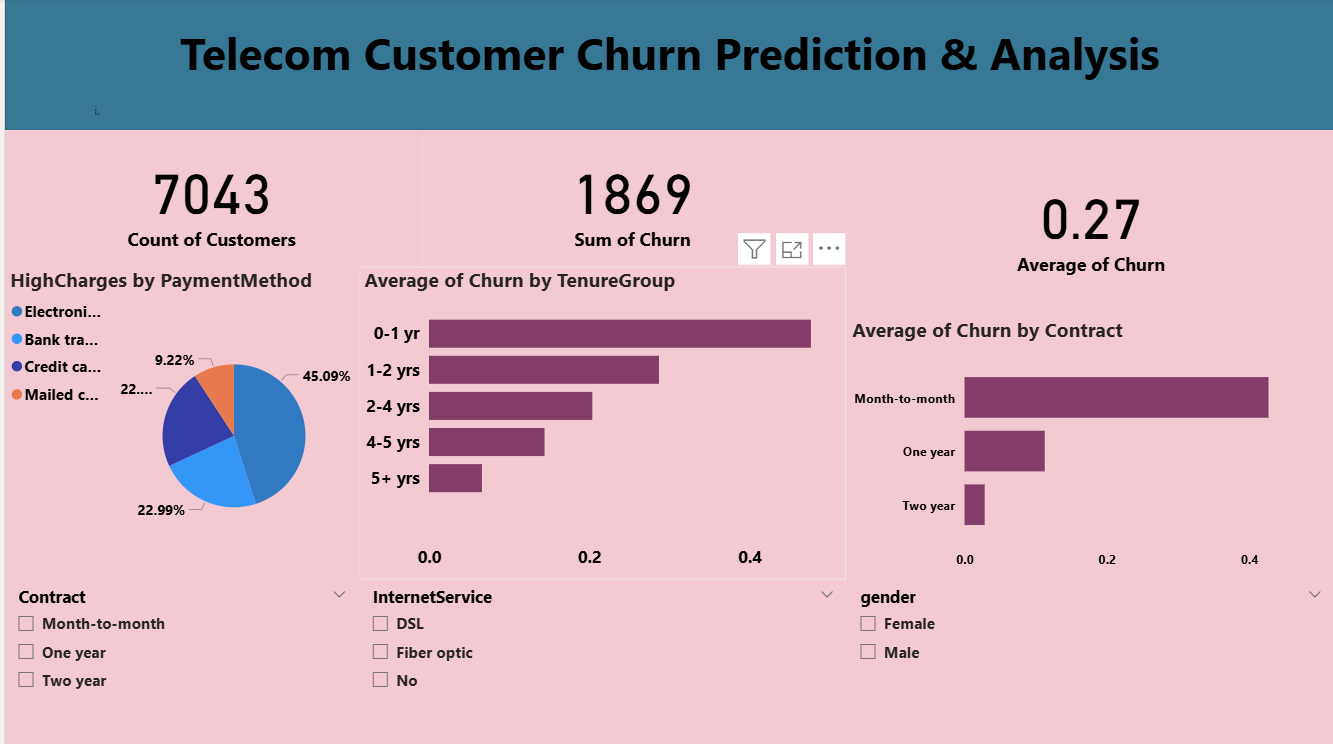

The dashboard page shown, as its layout file describes it:
{"tool":"powerbi","page":{"name":"Page 1","canvas":[1280,720],"ordinal":0},"visuals":[{"type":"card","fields":{"Values":["Count(data_preprocessed_telco_churn.customerID)"]},"box":[0,127.3,397.5,131.2],"z":0},{"type":"card","fields":{"Values":["Sum(data_preprocessed_telco_churn.Churn)"]},"box":[397.5,127.3,413.2,131.2],"z":1000},{"type":"card","fields":{"Values":["Avg(data_preprocessed_telco_churn.Churn)"]},"box":[810.7,127.3,469.7,179.7],"z":2000},{"type":"barChart","fields":{"Category":["data_preprocessed_telco_churn.Contract"],"Y":["Avg(data_preprocessed_telco_churn.Churn)"]},"box":[810.7,307,469.7,253.2],"z":2001},{"type":"barChart","fields":{"Y":["Avg(data_preprocessed_telco_churn.Churn)"],"Category":["data_preprocessed_telco_churn.TenureGroup"]},"box":[341.1,258.4,469.7,301.7],"z":2002},{"type":"pieChart","title":"HighCharges by PaymentMethod","fields":{"Y":["Sum(data_preprocessed_telco_churn.HighCharges)"],"Category":["data_preprocessed_telco_churn.PaymentMethod"]},"box":[0,258.4,341.1,301.7],"z":2003},{"type":"slicer","fields":{"Values":["data_preprocessed_telco_churn.gender"]},"box":[810.7,560.2,469.7,160],"z":2004},{"type":"slicer","fields":{"Values":["data_preprocessed_telco_churn.InternetService"]},"box":[341.1,560.2,469.7,160],"z":2005},{"type":"slicer","fields":{"Values":["data_preprocessed_telco_churn.Contract"]},"box":[0,560.2,341.1,160],"z":2006},{"type":"shape","box":[0,0,1280.4,127.3],"z":2007},{"type":"textbox","box":[0,0,1280.4,127.3],"z":2008}]}

Visuals, with their boxes in screenshot pixels (x1, y1, x2, y2), scaled from the page's 1280x720 canvas onto the 1333x744 screenshot:
card - Count(data_preprocessed_telco_churn.customerID): <region>0, 132, 414, 267</region>
card - Sum(data_preprocessed_telco_churn.Churn): <region>414, 132, 844, 267</region>
card - Avg(data_preprocessed_telco_churn.Churn): <region>844, 132, 1332, 317</region>
barChart - data_preprocessed_telco_churn.Contract x Avg(data_preprocessed_telco_churn.Churn): <region>844, 317, 1332, 579</region>
barChart - Avg(data_preprocessed_telco_churn.Churn) x data_preprocessed_telco_churn.TenureGroup: <region>355, 267, 844, 579</region>
"HighCharges by PaymentMethod" pieChart: <region>0, 267, 355, 579</region>
slicer - data_preprocessed_telco_churn.gender: <region>844, 579, 1332, 743</region>
slicer - data_preprocessed_telco_churn.InternetService: <region>355, 579, 844, 743</region>
slicer - data_preprocessed_telco_churn.Contract: <region>0, 579, 355, 743</region>
shape: <region>0, 0, 1332, 132</region>
textbox: <region>0, 0, 1332, 132</region>
